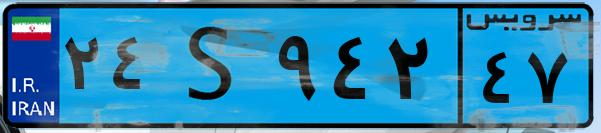2: (385, 28, 445, 110), (57, 26, 110, 100)
4: (330, 28, 385, 110), (475, 38, 525, 113), (110, 28, 158, 98)
7: (525, 38, 570, 115)
9: (270, 28, 330, 110)
S: (158, 12, 270, 120)
